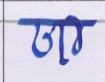i_matra: (67, 15, 80, 53)
